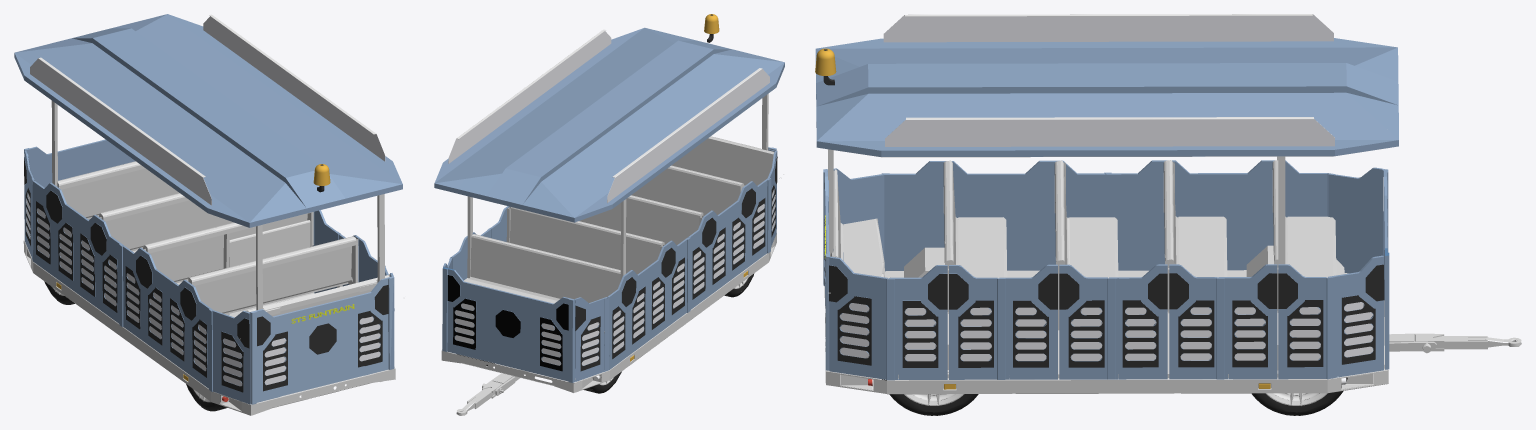
File: trainLeer.glb
3 renders of one model, left to right at view 1: azimuth 30°, elevation 25°; view 2: azimuth 150°, elevation 25°; view 3: azimuth 270°, elevation 25°, orthographic. The views are drawn at different scales.
Parts seen in each view (by area): view 1: Dach_Geschlossen_anh1, body_heck_anh1, body_left_2_anh1, body_left_3_anh1, H10_3_anh1, Werbetafel_1_anh1, H10_4_anh1, H10_1_anh1, Werbetafel_2_anh1, sitzbank_mitte_standard_anh1, body_left_4_anh1, body_left_anh1 (+12 smaller); view 2: Dach_Geschlossen_anh1, body_left_anh1, H10_1_anh1, body_left_2_anh1, body_left_3_anh1, H10_4_anh1, Werbetafel_1_anh1, H10_3_anh1, Werbetafel_2_anh1, sitzbank_mitte_standard_anh1, sitzbank_heck_standard_anh1, body_left_1_anh1 (+7 smaller); view 3: Dach_Geschlossen_anh1, body_left_3_anh1, body_left_2_anh1, Werbetafel_2_anh1, Werbetafel_1_anh1, body_3_anh1, body_9_anh1, body_5_anh1, Standard Anhänger 00000001:1, body_7_anh1, body_1_anh1, body_10_anh1 (+19 smaller).
Part boxes in pixels (x1,y1,x2,y2): Dach_Geschlossen_anh1: (14, 14, 402, 227); body_heck_anh1: (249, 276, 394, 403); body_left_2_anh1: (32, 180, 123, 326); body_left_3_anh1: (123, 245, 213, 391); H10_3_anh1: (188, 236, 358, 313); Werbetafel_1_anh1: (30, 57, 211, 205); H10_4_anh1: (99, 193, 233, 249); H10_1_anh1: (32, 161, 178, 217); Werbetafel_2_anh1: (203, 14, 385, 161); sitzbank_mitte_standard_anh1: (144, 212, 313, 281); body_left_4_anh1: (212, 310, 250, 404); body_left_anh1: (24, 139, 135, 239); Dach_Geschlossen_anh1: (434, 27, 784, 222); body_left_anh1: (442, 267, 575, 382); H10_1_anh1: (464, 234, 620, 333); body_left_2_anh1: (607, 237, 690, 369); body_left_3_anh1: (688, 178, 771, 309); H10_4_anh1: (509, 207, 664, 274); Werbetafel_1_anh1: (607, 68, 769, 202); H10_3_anh1: (631, 165, 743, 215); Werbetafel_2_anh1: (448, 29, 611, 163); sitzbank_mitte_standard_anh1: (579, 195, 703, 244); sitzbank_heck_standard_anh1: (671, 136, 774, 185); body_left_1_anh1: (575, 297, 609, 381); Dach_Geschlossen_anh1: (815, 38, 1398, 156); body_left_3_anh1: (881, 160, 1105, 271); body_left_2_anh1: (1104, 160, 1327, 270); Werbetafel_2_anh1: (885, 117, 1334, 146); Werbetafel_1_anh1: (883, 14, 1333, 42); body_3_anh1: (1216, 264, 1277, 379); body_9_anh1: (886, 265, 947, 380); body_5_anh1: (1107, 264, 1167, 379); Standard Anhänger 00000001:1: (887, 373, 1327, 394); body_7_anh1: (997, 264, 1057, 379); body_1_anh1: (1326, 255, 1384, 379); body_10_anh1: (829, 256, 887, 379).
Bounding box in the file's own units: 1.92 × 2.52 × 5.02.
